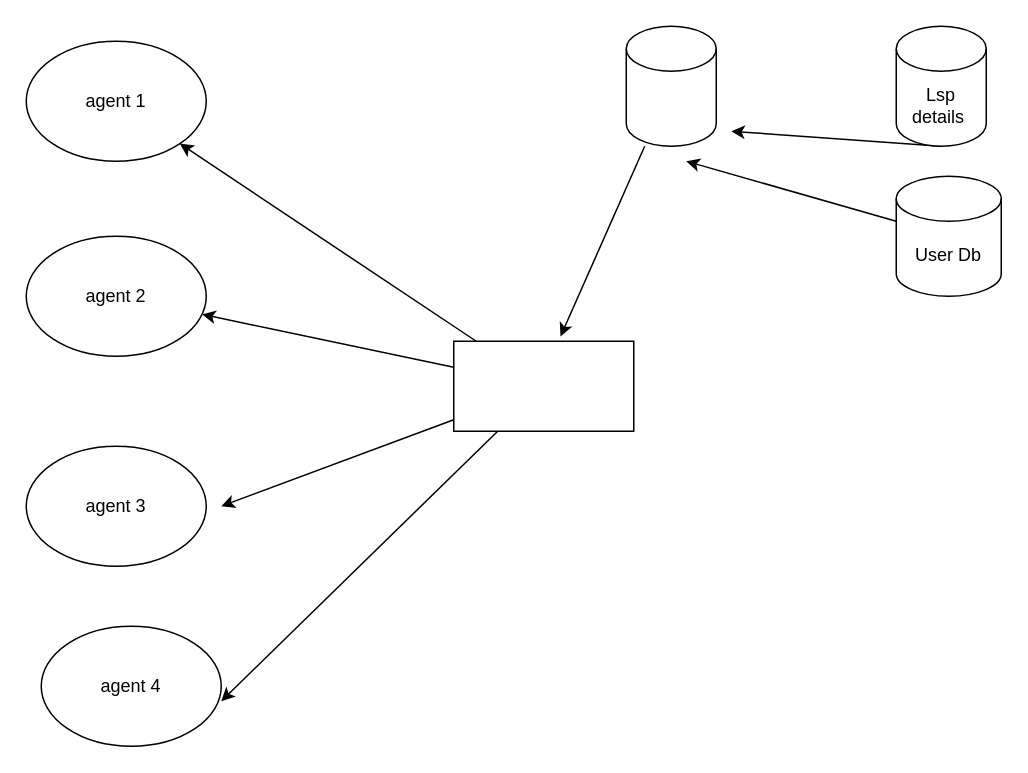
The diagram is 1028 pixels wide and 773 high, and some of its shapes have lost their labels. The shapes that lost their labels are listed below. From the top down, each one's centre as x and y in pixels, then its label:
At point 670,85: "db Appointmet".
At point 543,385: "Call Forwrding".
